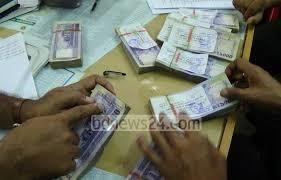1000 tk: (51, 81, 133, 179), (150, 68, 250, 136), (46, 18, 83, 62)
